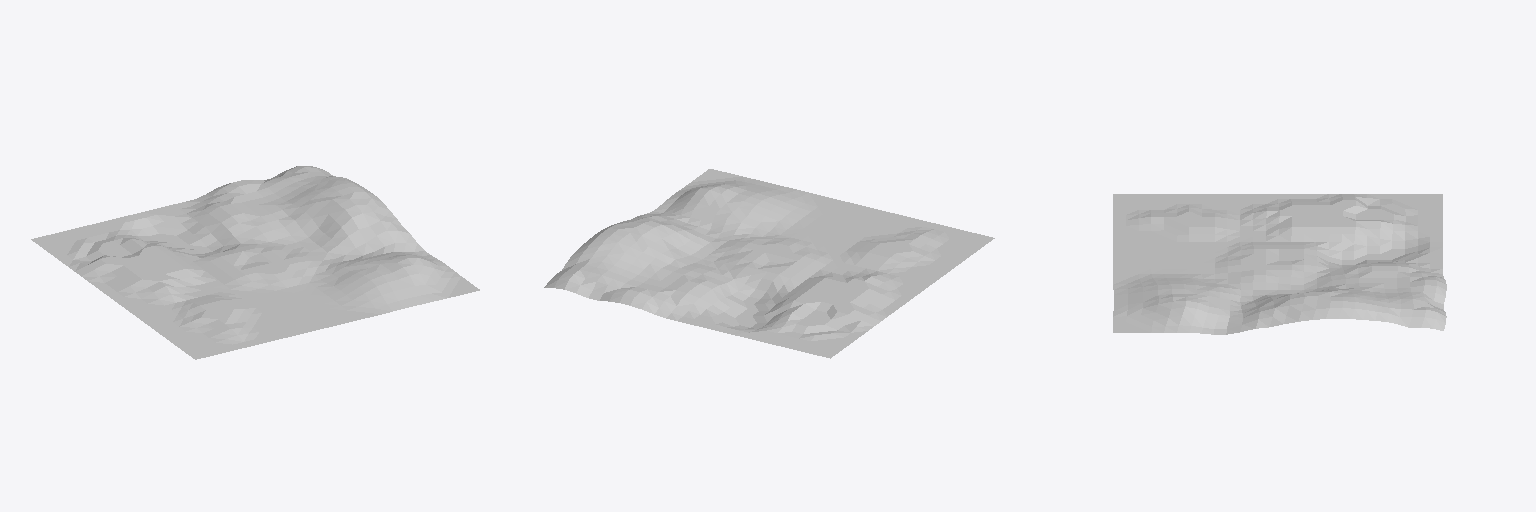
File: Ground.obj
3 renders of one model, left to right at view 1: azimuth 30°, elevation 25°; view 2: azimuth 150°, elevation 25°; view 3: azimuth 270°, elevation 25°, orthographic.
Parts seen in each view (by area): view 1: Plane.002; view 2: Plane.002; view 3: Plane.002.
Part boxes in pixels (x1,y1,x2,y2): Plane.002: (31, 166, 479, 359); Plane.002: (544, 169, 994, 358); Plane.002: (1113, 194, 1446, 334).
Bounding box in the file's own units: 30.27 × 3.05 × 30.33.